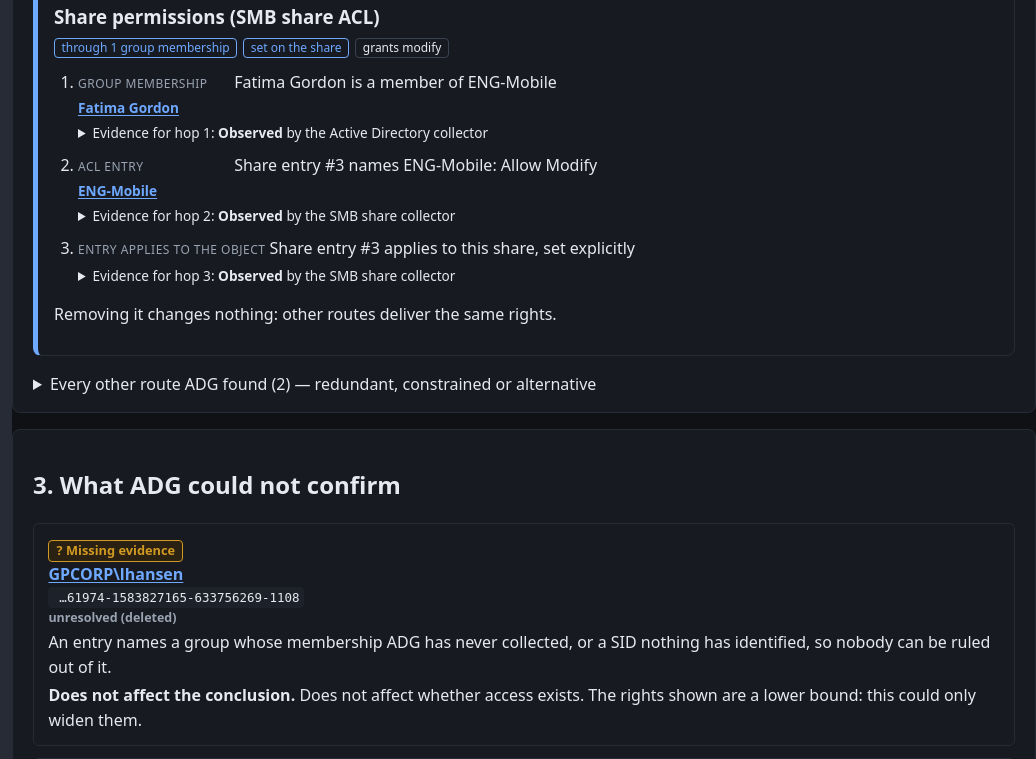
Test: 3. the route › keeps the derived, redundant routes one disclosure away, with their hops
(page scrolled)
Click the heading "Every other route ADG found (2)": (323,384) [50,373,596,395]
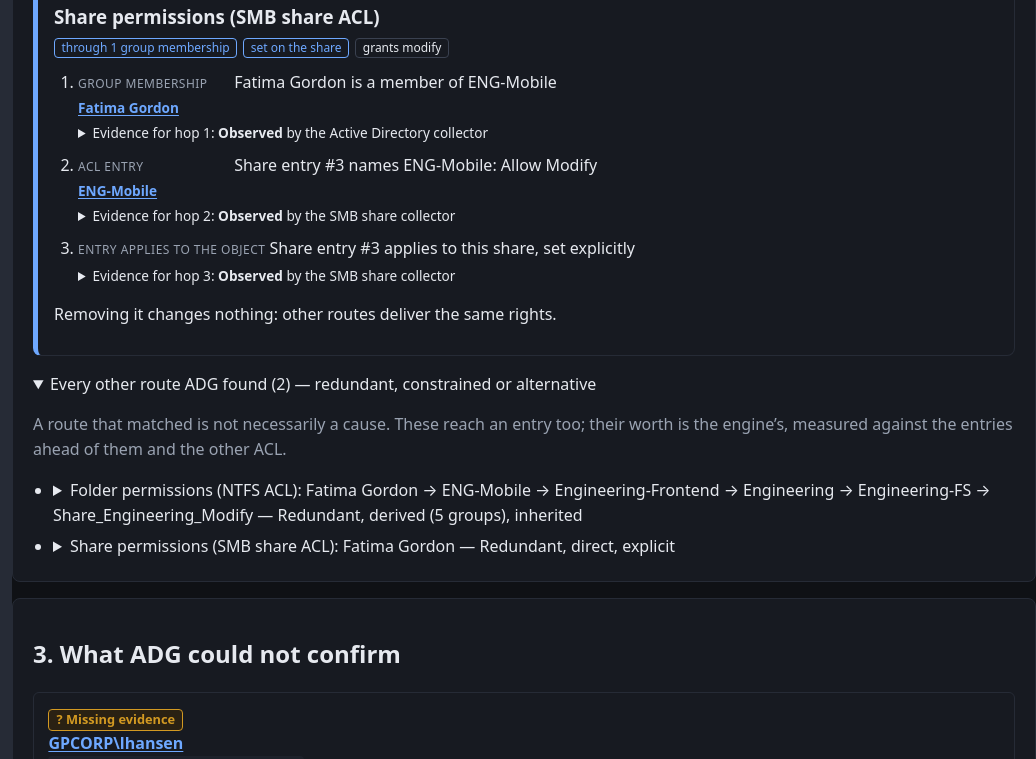
Now the heading "Fatima Gordon → ENG-Mobile → Engineering-Frontend → Engineering → Engineering-FS → Share_Engineering_Modify" shows "Redundant, derived (5 groups), inherited", box [53,478,1015,528]
